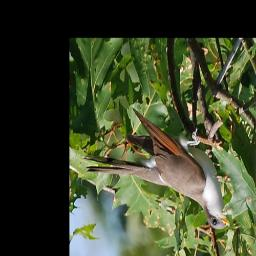Cuckoo: (83, 108, 230, 230)
